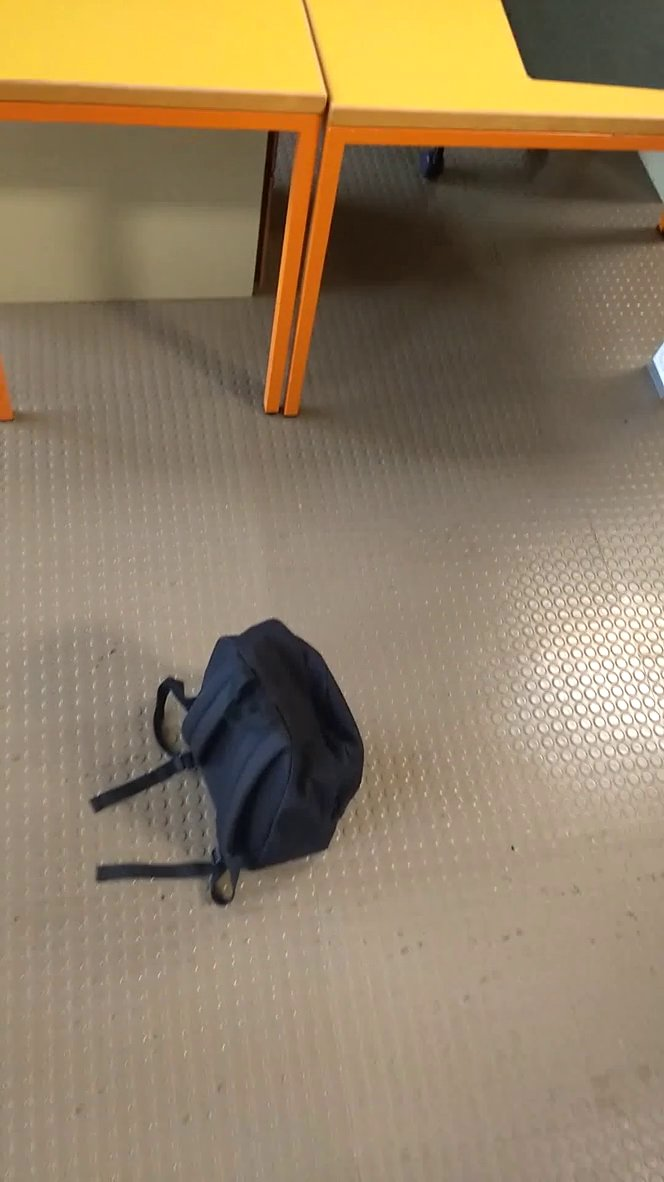bag: (71, 607, 371, 924)
